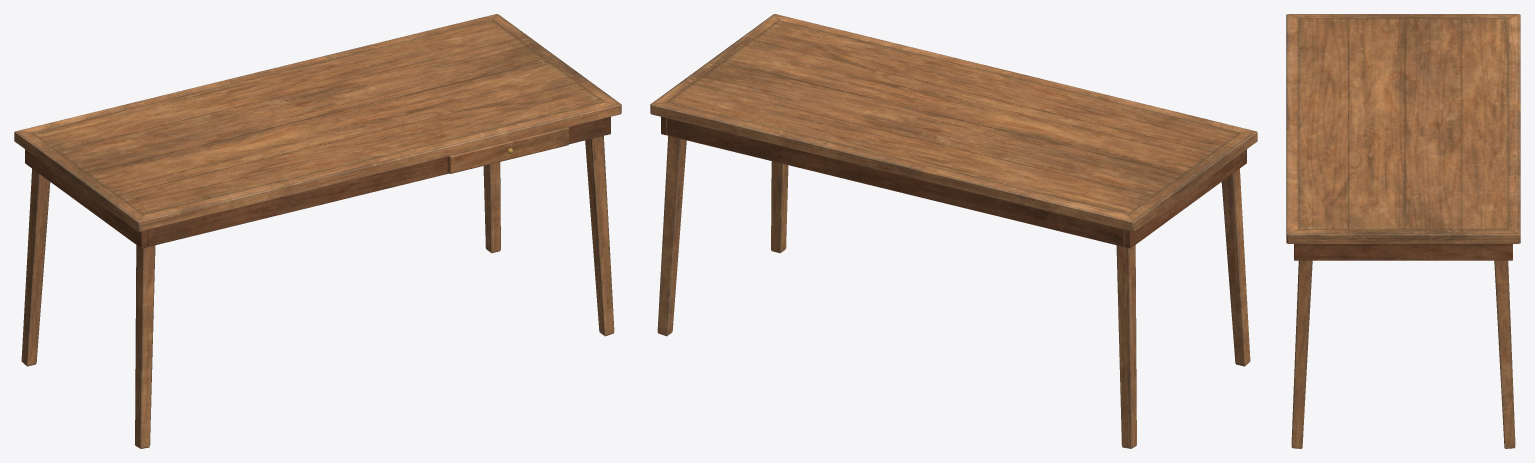
File: mesa.glb
The picture shows the model from 3 angles, left to right: view 1: azimuth 30°, elevation 25°; view 2: azimuth 150°, elevation 25°; view 3: azimuth 270°, elevation 25°; orthographic projection. The views are drawn at different scales.
Visible parts, largest first — view 1: wooden_table_02; view 2: wooden_table_02; view 3: wooden_table_02.
Boxes of the visible parts, x1,y1,x2,y2 form: wooden_table_02: (14, 14, 621, 448); wooden_table_02: (650, 14, 1257, 448); wooden_table_02: (1286, 14, 1520, 448).
Size of the model in its own units: 1.7 by 0.775 by 0.7599.
3 materials, 2 textured.
